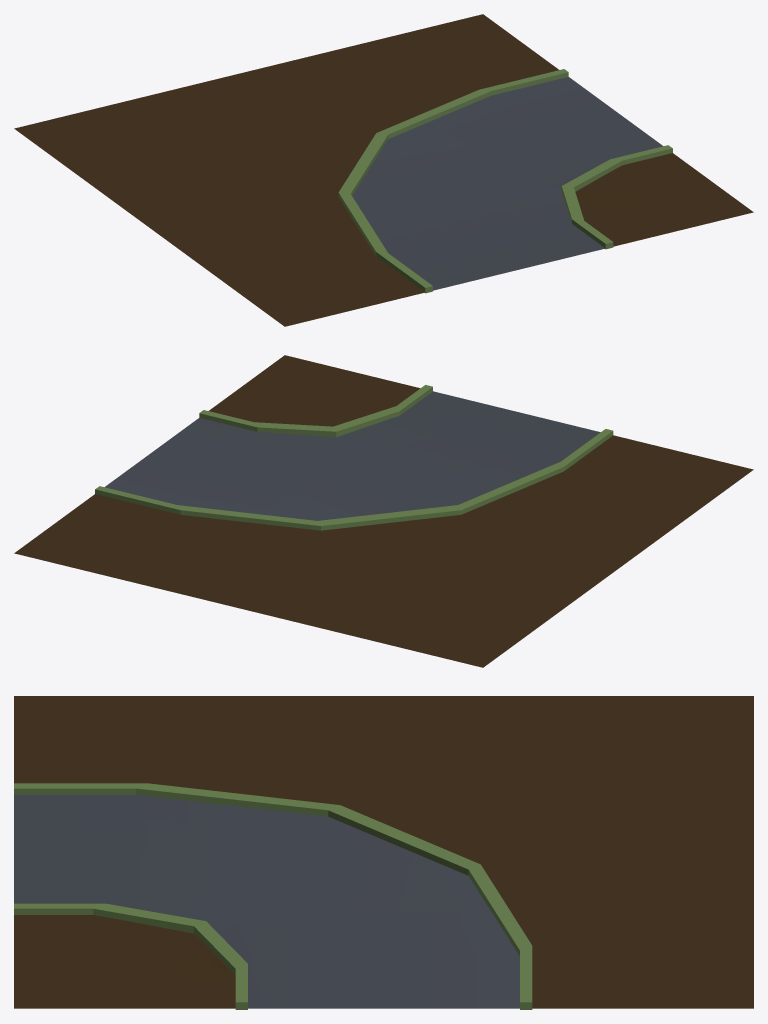
File: Tile_18.fbx
The picture shows the model from 3 angles, top to bottom: view 1: azimuth 30°, elevation 25°; view 2: azimuth 150°, elevation 25°; view 3: azimuth 270°, elevation 25°; orthographic projection. The views are drawn at different scales.
Visible parts, largest first — view 1: Tile_18; view 2: Tile_18; view 3: Tile_18.
Boxes of the visible parts, x1,y1,x2,y2 form: Tile_18: [14, 14, 753, 326]; Tile_18: [14, 355, 753, 667]; Tile_18: [14, 696, 753, 1009].
Size of the model in its own units: 3 by 0.0337 by 3.
